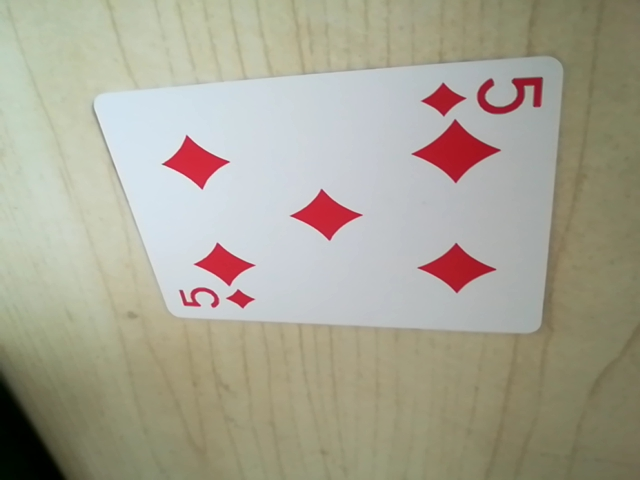fk 5: (421, 67, 547, 122), (174, 280, 258, 318)
